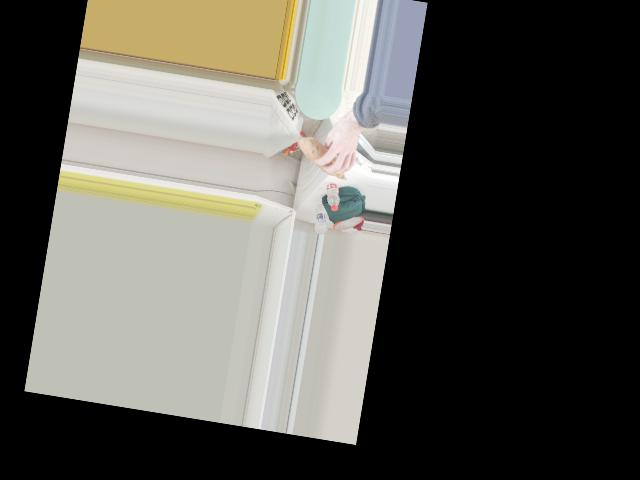sweet_potato: (295, 135, 354, 178)
